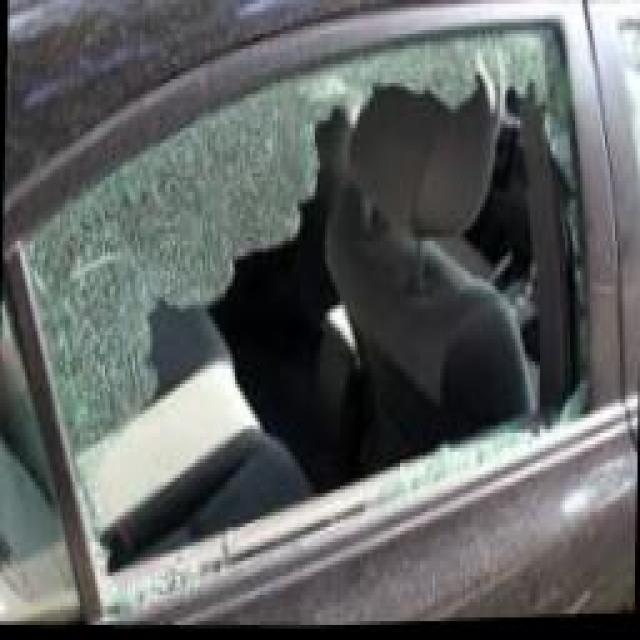replaceable: (55, 43, 602, 460)
